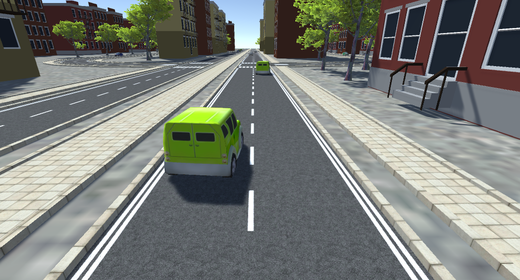centerstrip: (1, 69, 181, 130), (245, 65, 259, 239)
sidestripe: (272, 73, 434, 280), (69, 79, 230, 278)
